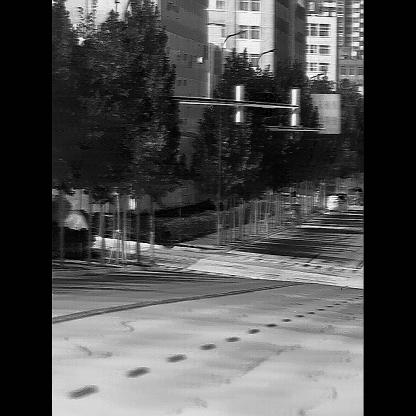car: (347, 187, 363, 206), (334, 192, 350, 210), (324, 194, 339, 212)
